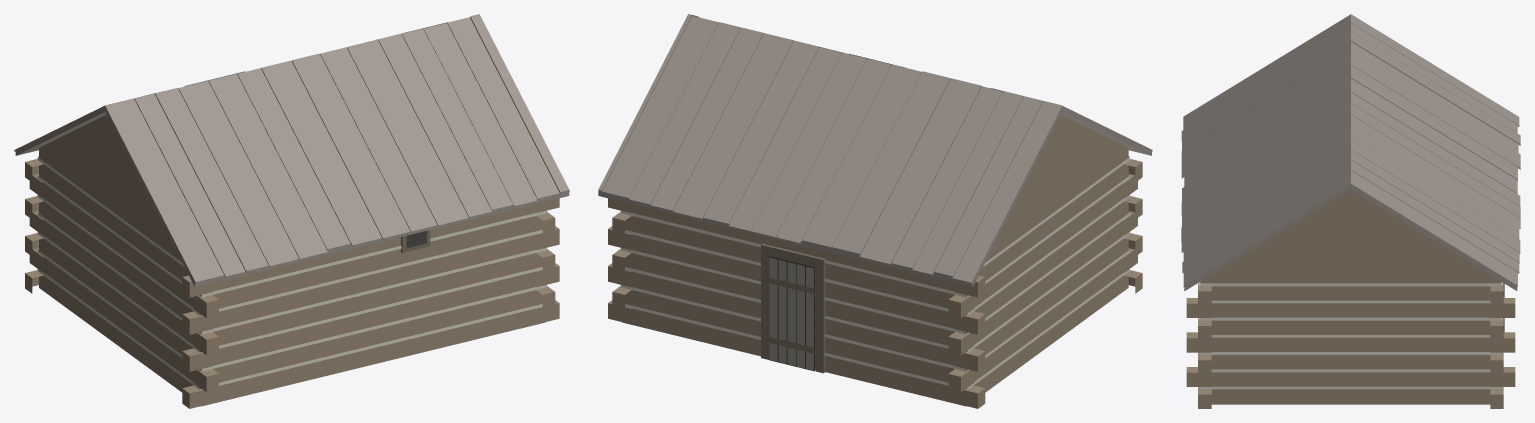
Rendered from fort_dearborn_out_building_south__out_building_1830.glb.
3 views of the same model, side by side, from view 1: azimuth 30°, elevation 25°; view 2: azimuth 150°, elevation 25°; view 3: azimuth 270°, elevation 25° (orthographic). The views are drawn at different scales.
Visible parts, largest first — view 1: fort_dearborn_out_building_south__out_building_1830; view 2: fort_dearborn_out_building_south__out_building_1830; view 3: fort_dearborn_out_building_south__out_building_1830.
Part boxes in pixels (x1,y1,x2,y2): fort_dearborn_out_building_south__out_building_1830: [14, 14, 569, 408]; fort_dearborn_out_building_south__out_building_1830: [598, 14, 1152, 408]; fort_dearborn_out_building_south__out_building_1830: [1181, 14, 1520, 408].
Bounding box in the file's own units: 7.06 × 4.42 × 5.97.
